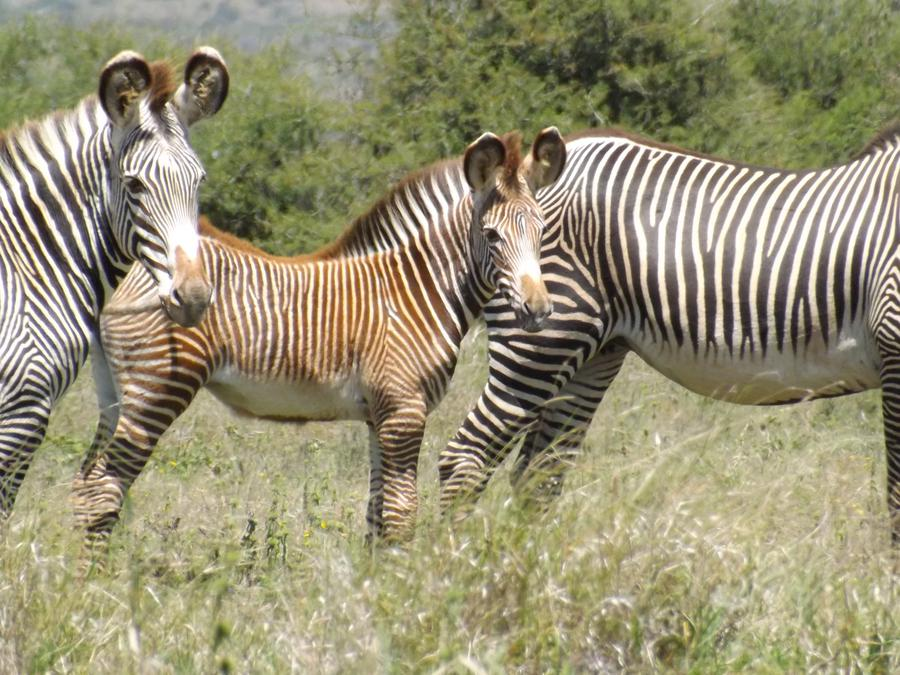zebra_grevys: (575, 113, 893, 381), (201, 197, 433, 415)
